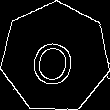O_N: (29, 28, 82, 87)
